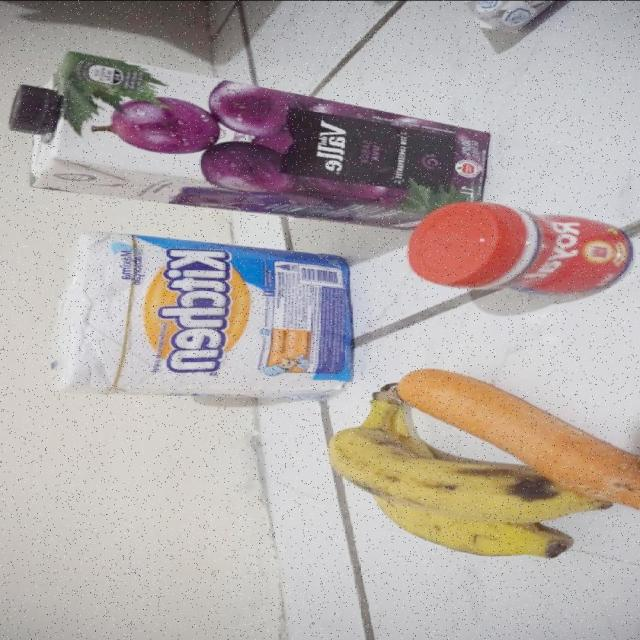Banana: (326, 381, 613, 561)
Carrot: (398, 370, 640, 508)
Napkin: (48, 232, 352, 402)
Soap: (461, 0, 570, 36)
Yeast: (406, 201, 636, 300)
